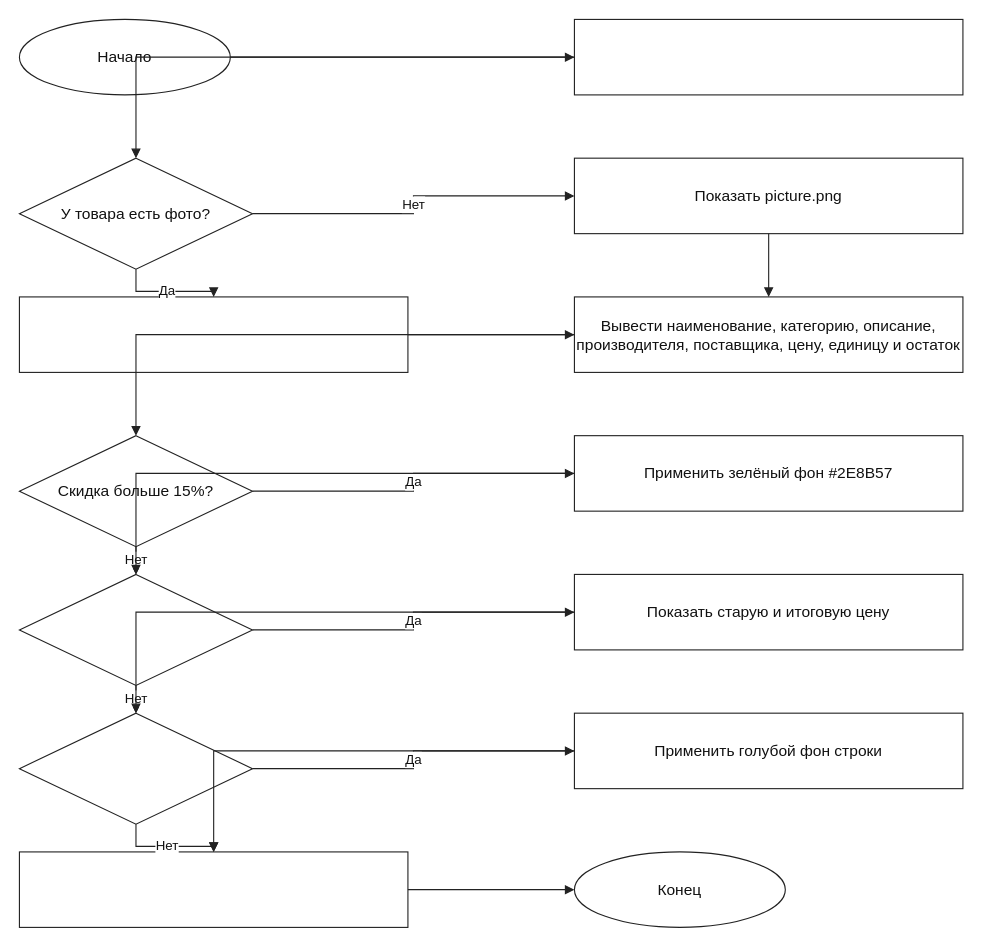
Image size: 982x947. Some labels were removed from this diagram. The shapes that lost their labels are listed below. From the top down, each one's box as (x1, y1, x2, y2) in pixels, then its label:
(573, 18, 963, 95): Получить товары из БД
(18, 296, 408, 372): Показать фото товара
(18, 573, 253, 685): Цена снижена?
(18, 712, 253, 824): Остаток равен нулю?
(18, 851, 408, 927): Показать каталог
